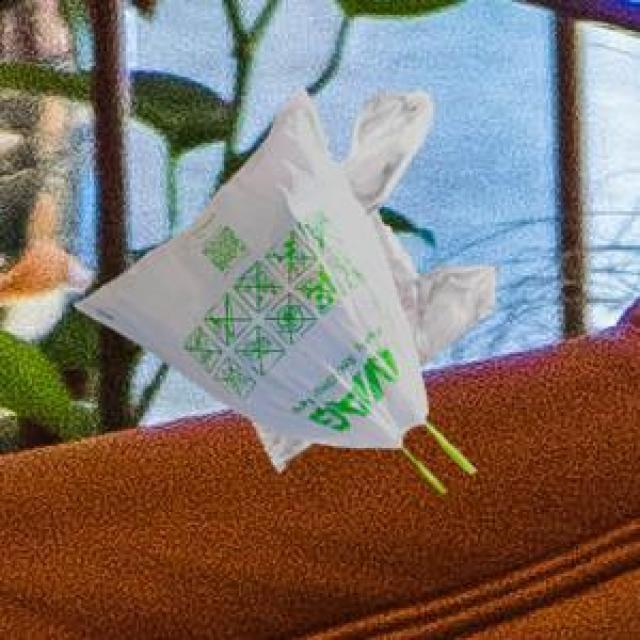waste: (79, 92, 494, 472)
